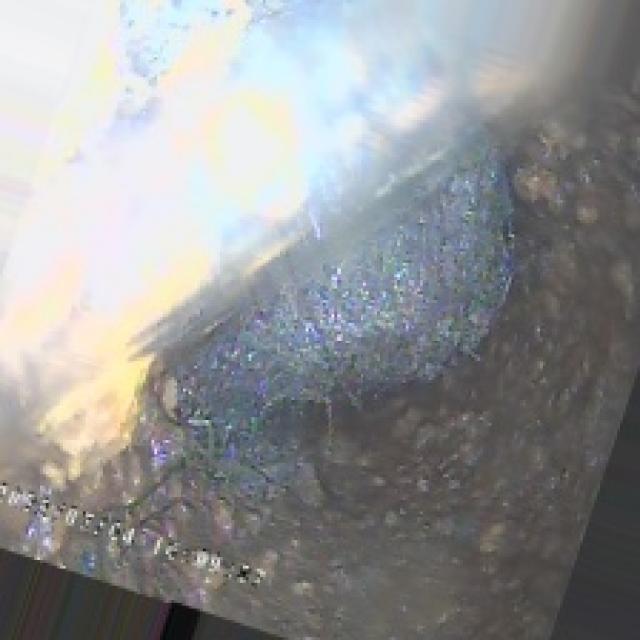Root_blockage: (151, 166, 543, 406)
